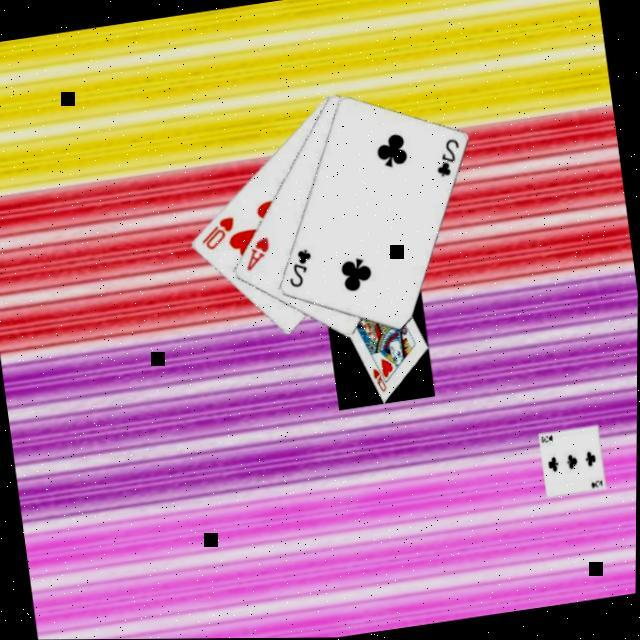10H: (197, 215, 242, 256)
2C: (283, 247, 320, 294), (430, 137, 467, 184)
AH: (240, 235, 277, 277)
